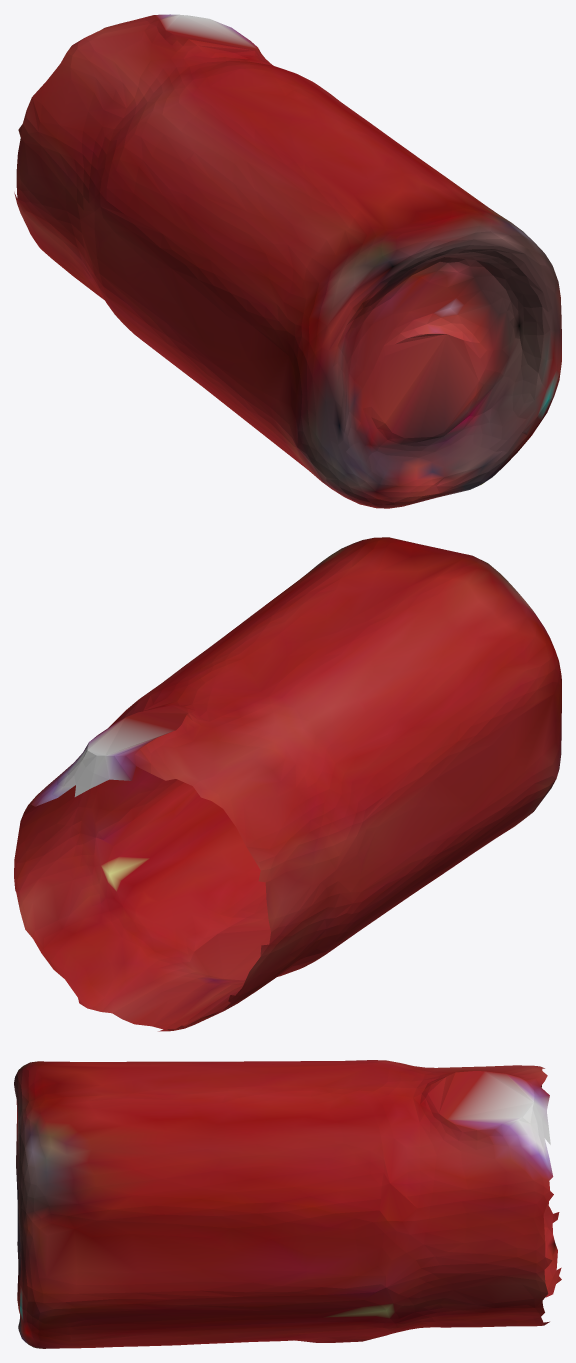
File: scan.obj
3 views of the same model, one above another, from view 1: azimuth 30°, elevation 25°; view 2: azimuth 150°, elevation 25°; view 3: azimuth 270°, elevation 25° (orthographic). The views are drawn at different scales.
Visible parts, largest first — view 1: scan.ply; view 2: scan.ply; view 3: scan.ply.
Part boxes in pixels (x1,y1,x2,y2): scan.ply: (14, 14, 561, 508); scan.ply: (14, 537, 561, 1031); scan.ply: (14, 1060, 561, 1348).
Size of the model in its own units: 0.016 by 0.0165 by 0.0323.
